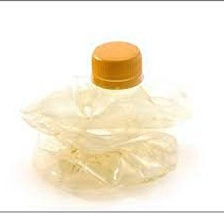bottle: (22, 39, 183, 200)
